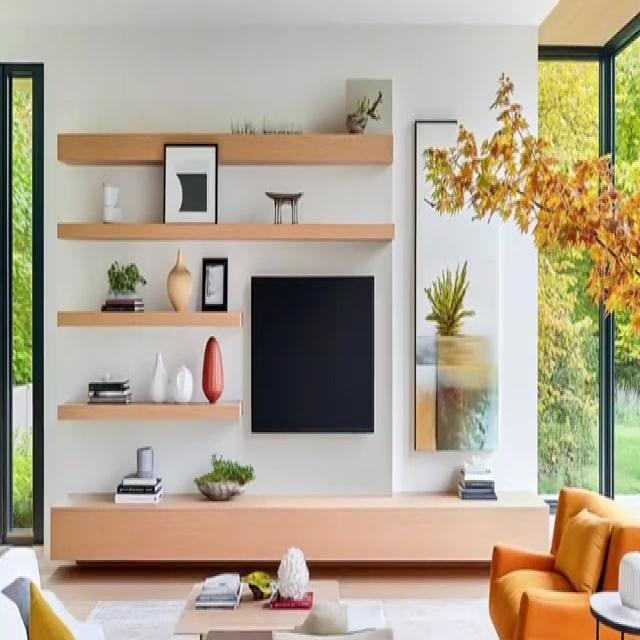obstacle: (58, 137, 248, 506), (488, 486, 639, 638), (173, 578, 340, 638)
